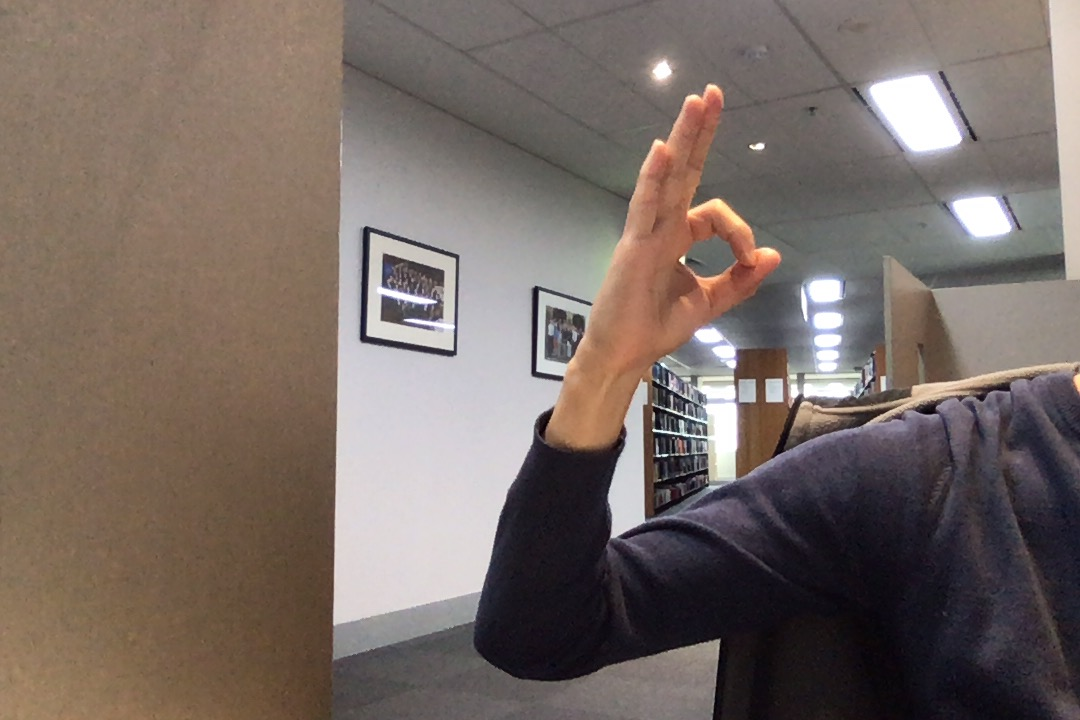oksign: (580, 75, 788, 381)
